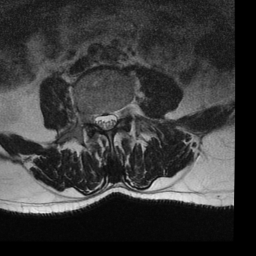CCS_normal: (102, 105, 110, 137)
LFS_normal: (117, 99, 125, 126)
LLS_normal: (110, 105, 118, 132)
RFS_normal: (87, 104, 94, 129)
RLS_normal: (95, 106, 102, 133)
